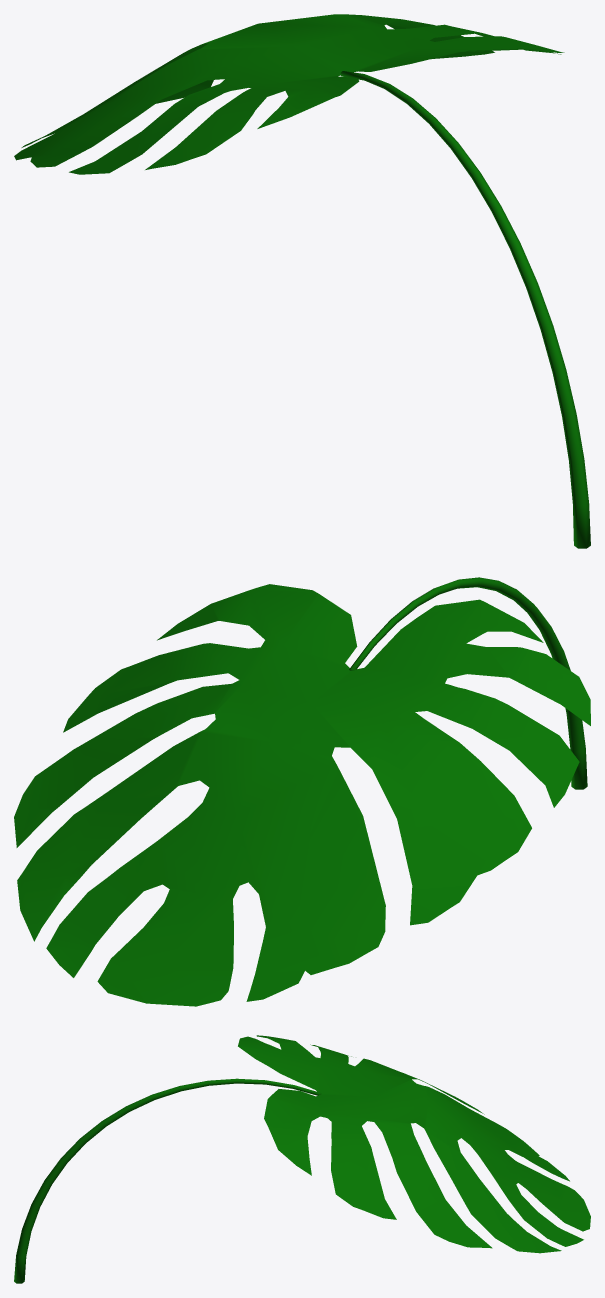
Rendered from generate monstera V1.glb.
3 renders of one model, top to bottom at view 1: azimuth 30°, elevation 25°; view 2: azimuth 150°, elevation 25°; view 3: azimuth 270°, elevation 25°, orthographic. The views are drawn at different scales.
Visible parts, largest first — view 1: monstera; view 2: monstera; view 3: monstera.
Part boxes in pixels (x1=…): monstera: x1=14, y1=14, x2=590, y2=548; monstera: x1=14, y1=577, x2=590, y2=1006; monstera: x1=14, y1=1035, x2=590, y2=1283.
Bounding box in the file's own units: 0.8328 × 0.55 × 1.34.
